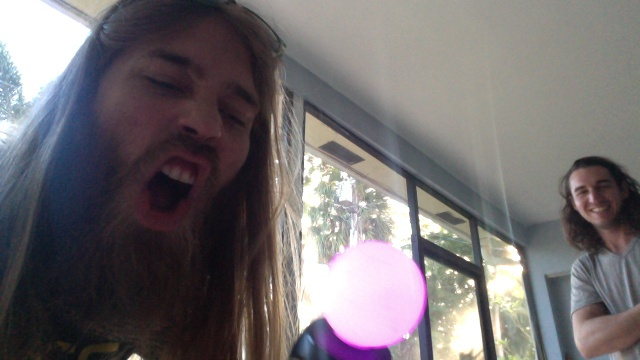wand: (326, 243, 424, 347)
